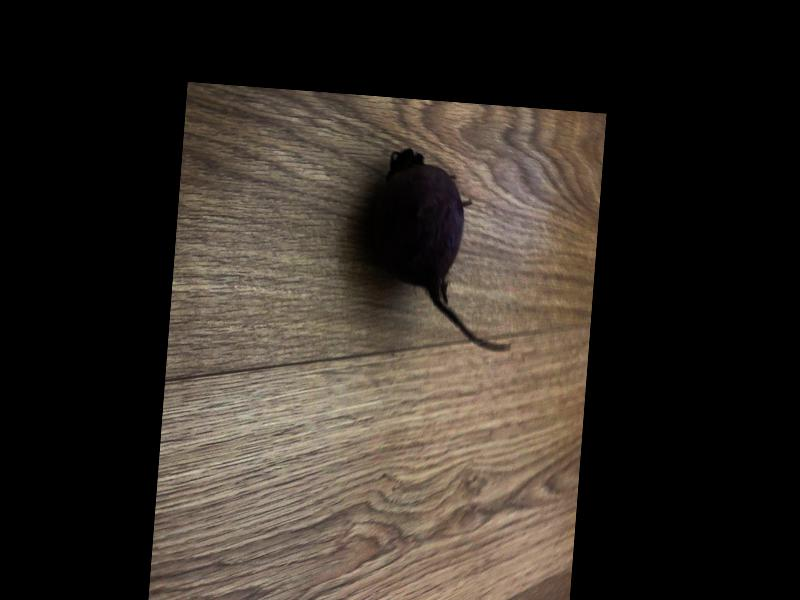Beet: (363, 150, 524, 355)
